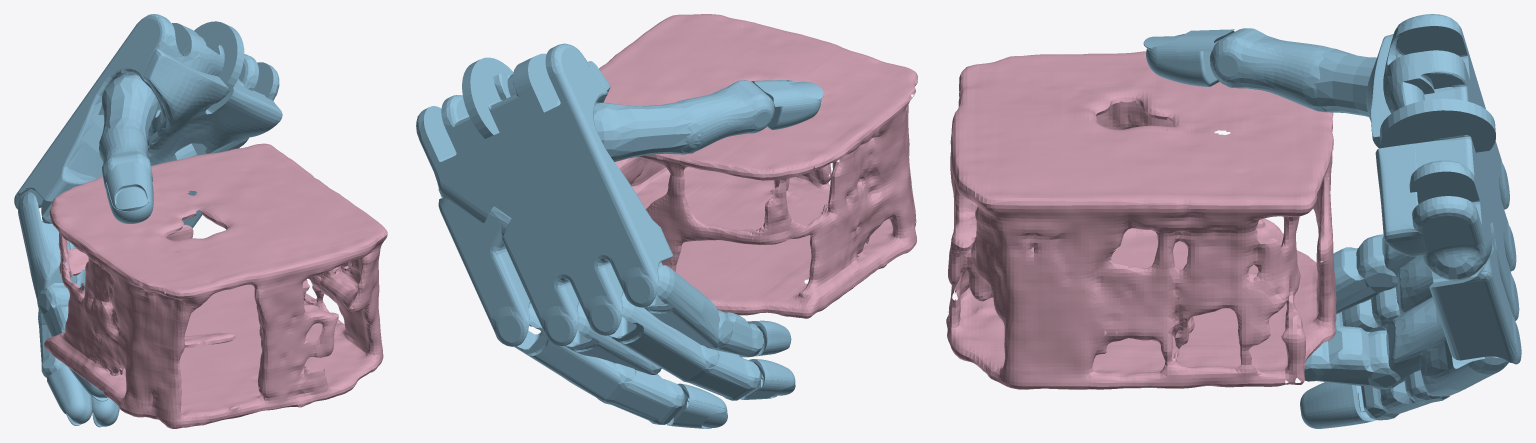
3 renders of one model, left to right at view 1: azimuth 30°, elevation 25°; view 2: azimuth 150°, elevation 25°; view 3: azimuth 270°, elevation 25°, orthographic. The views are drawn at different scales.
Parts seen in each view (by area): view 1: world, hand_isaac_q; view 2: hand_isaac_q, world; view 3: world, hand_isaac_q.
Part boxes in pixels (x1,y1,x2,y2): world: (44, 143, 387, 428); hand_isaac_q: (14, 14, 282, 427); hand_isaac_q: (416, 43, 823, 428); world: (599, 14, 917, 318); world: (946, 51, 1336, 389); hand_isaac_q: (1143, 14, 1521, 428).
Bounding box in the file's own units: 0.1564 × 0.1767 × 0.1939.
